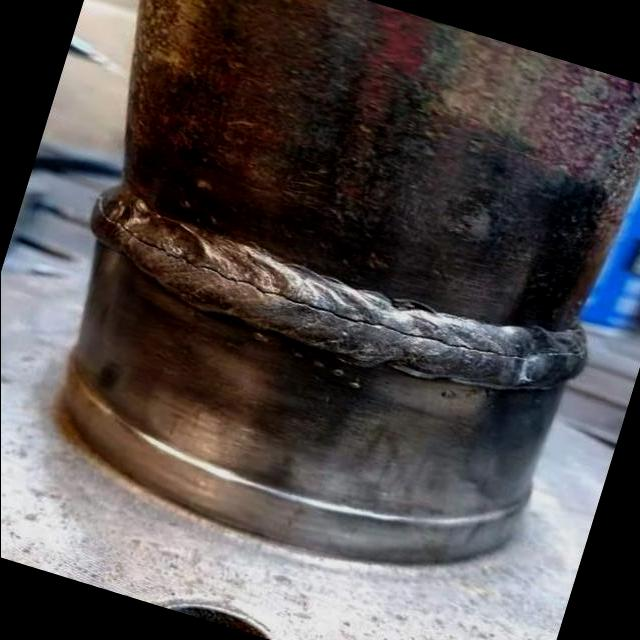defect: (92, 198, 590, 365)
